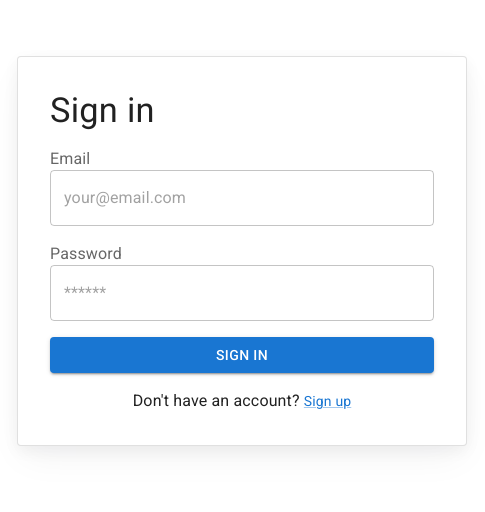
Test: AuthPage › shows error alert on failed login
Step 1. Type "test@example.com" into the field labelled "Email" → (242, 198), box [50,170,434,226]
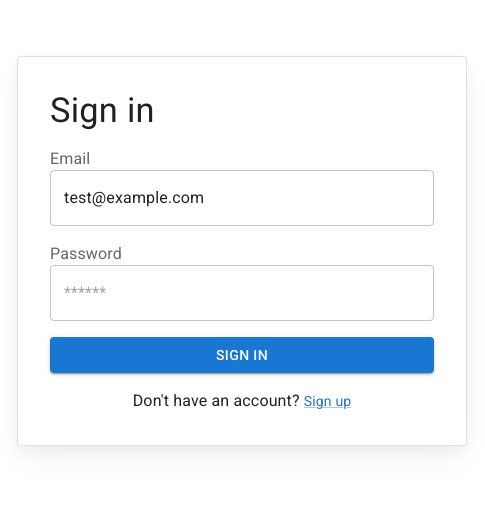
Step 2. Type "password123" into the password field labelled "Password" → (242, 293), box [50,265,434,321]
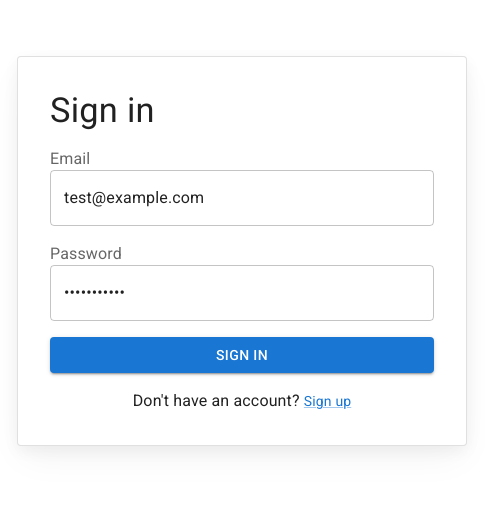
Step 3. Click the button "Sign in" → (242, 355), box [50,337,434,374]
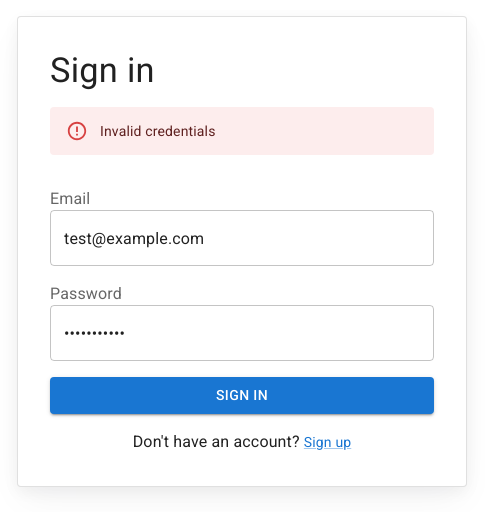
Expected: the text "Invalid credentials" is shown, [100,123,216,139]
